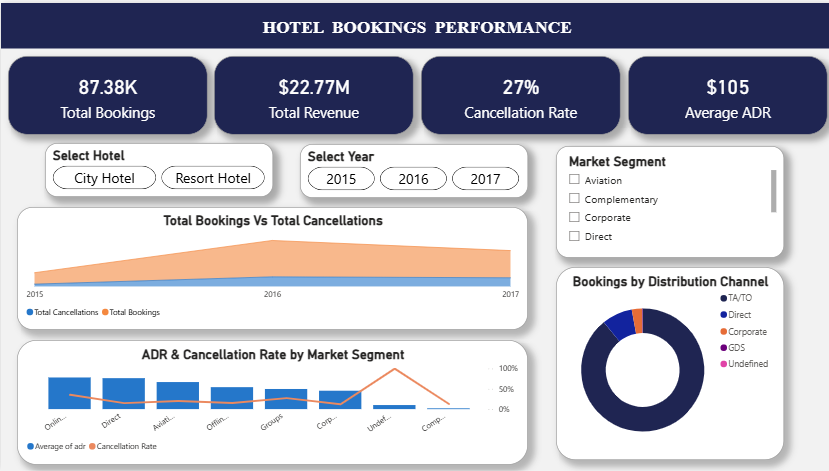

The dashboard page shown, as its layout file describes it:
{"tool":"powerbi","page":{"name":"Page 1","canvas":[1280,720],"ordinal":0},"visuals":[{"type":"textbox","box":[0,0,1280.6,70.1],"z":0},{"type":"card","fields":{"Values":["CountNonNull(cleaned_hotel_bookings.is_canceled)"]},"box":[10.4,82.1,307.5,120.9],"z":1000},{"type":"card","fields":{"Values":["cleaned_hotel_bookings.Cancellation Rate"]},"box":[646.3,82.1,307.5,120.9],"z":2000},{"type":"card","fields":{"Values":["Avg(cleaned_hotel_bookings.adr)"]},"box":[964.2,82.1,307.5,120.9],"z":3000},{"type":"card","fields":{"Values":["cleaned_hotel_bookings.Revenue"]},"box":[328.4,82.1,307.5,120.9],"z":4000},{"type":"advancedSlicerVisual","title":"Select Year","fields":{"Values":["cleaned_hotel_bookings.arrival_date.Variation.Date Hierarchy.Year"]},"box":[460,216.9,350.8,83.1],"z":5000},{"type":"slicer","title":"Select Hotel","fields":{"Values":["cleaned_hotel_bookings.market_segment"]},"box":[853.8,220,350.8,172.3],"z":6000},{"type":"advancedSlicerVisual","title":"Select Hotel","fields":{"Values":["cleaned_hotel_bookings.hotel"]},"box":[67.7,215.4,350.8,83.1],"z":7000},{"type":"stackedAreaChart","title":"Total Bookings Vs Total Cancellations","fields":{"Category":["cleaned_hotel_bookings.arrival_date.Variation.Date Hierarchy.Year"],"Y":["Sum(cleaned_hotel_bookings.is_canceled)1","CountNonNull(cleaned_hotel_bookings.is_canceled)"]},"box":[24.6,313.8,786.2,189.2],"z":8000},{"type":"donutChart","title":"Bookings by Distribution Channel","fields":{"Category":["cleaned_hotel_bookings.distribution_channel"],"Y":["Sum(cleaned_hotel_bookings.is_canceled)"]},"box":[853.8,406.2,350.8,296.9],"z":9000},{"type":"lineClusteredColumnComboChart","title":"ADR & Cancellation Rate by Market Segment","fields":{"Category":["cleaned_hotel_bookings.market_segment"],"Y":["Avg(cleaned_hotel_bookings.adr)"],"Y2":["cleaned_hotel_bookings.Cancellation Rate"]},"box":[24.6,518.5,786.2,192.3],"z":10000}]}

Visuals, with their boxes in screenshot pixels (x1, y1, x2, y2), scaled from the page's 1280x720 canvas onto the 829x471 screenshot:
textbox: locate(0, 0, 828, 46)
card - CountNonNull(cleaned_hotel_bookings.is_canceled): locate(7, 54, 206, 133)
card - cleaned_hotel_bookings.Cancellation Rate: locate(419, 54, 618, 133)
card - Avg(cleaned_hotel_bookings.adr): locate(624, 54, 824, 133)
card - cleaned_hotel_bookings.Revenue: locate(213, 54, 412, 133)
"Select Year" advancedSlicerVisual: locate(298, 142, 525, 196)
"Select Hotel" slicer: locate(553, 144, 780, 257)
"Select Hotel" advancedSlicerVisual: locate(44, 141, 271, 195)
"Total Bookings Vs Total Cancellations" stackedAreaChart: locate(16, 205, 525, 329)
"Bookings by Distribution Channel" donutChart: locate(553, 266, 780, 460)
"ADR & Cancellation Rate by Market Segment" lineClusteredColumnComboChart: locate(16, 339, 525, 465)
